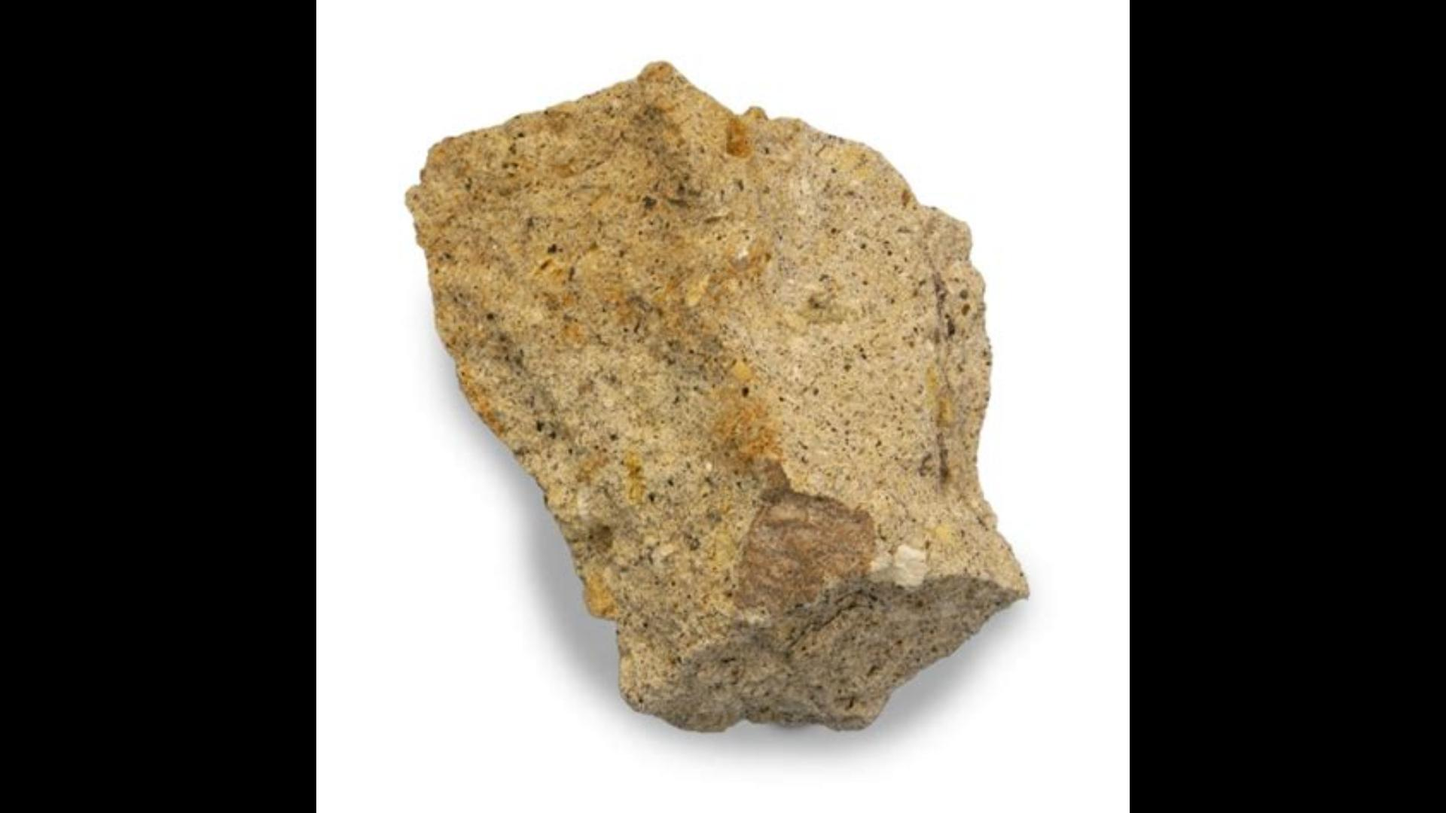rock: (407, 63, 1025, 729)
